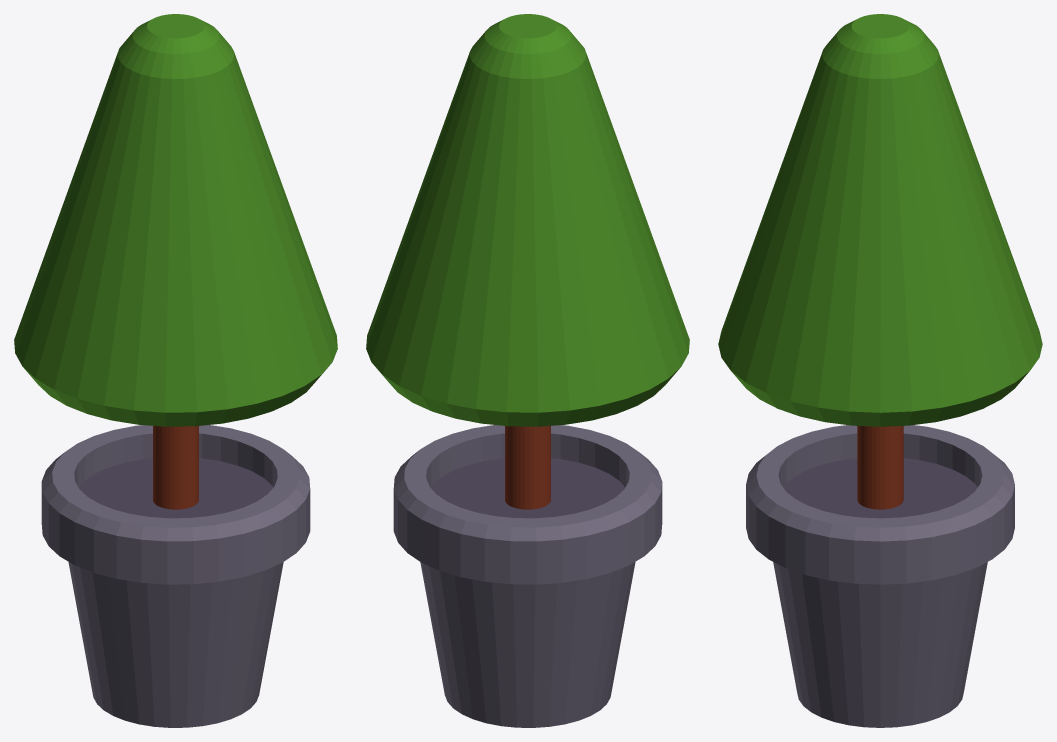
Rendered from tree.fbx.
3 renders of one model, left to right at view 1: azimuth 30°, elevation 25°; view 2: azimuth 150°, elevation 25°; view 3: azimuth 270°, elevation 25°, orthographic.
Parts seen in each view (by area): view 1: Цилиндр.002; view 2: Цилиндр.002; view 3: Цилиндр.002.
Part boxes in pixels (box(x1,y1,x2,y2)): Цилиндр.002: box(14, 14, 337, 727); Цилиндр.002: box(366, 14, 689, 727); Цилиндр.002: box(718, 14, 1042, 727).
Bounding box in the file's own units: 144 × 327 × 144.
